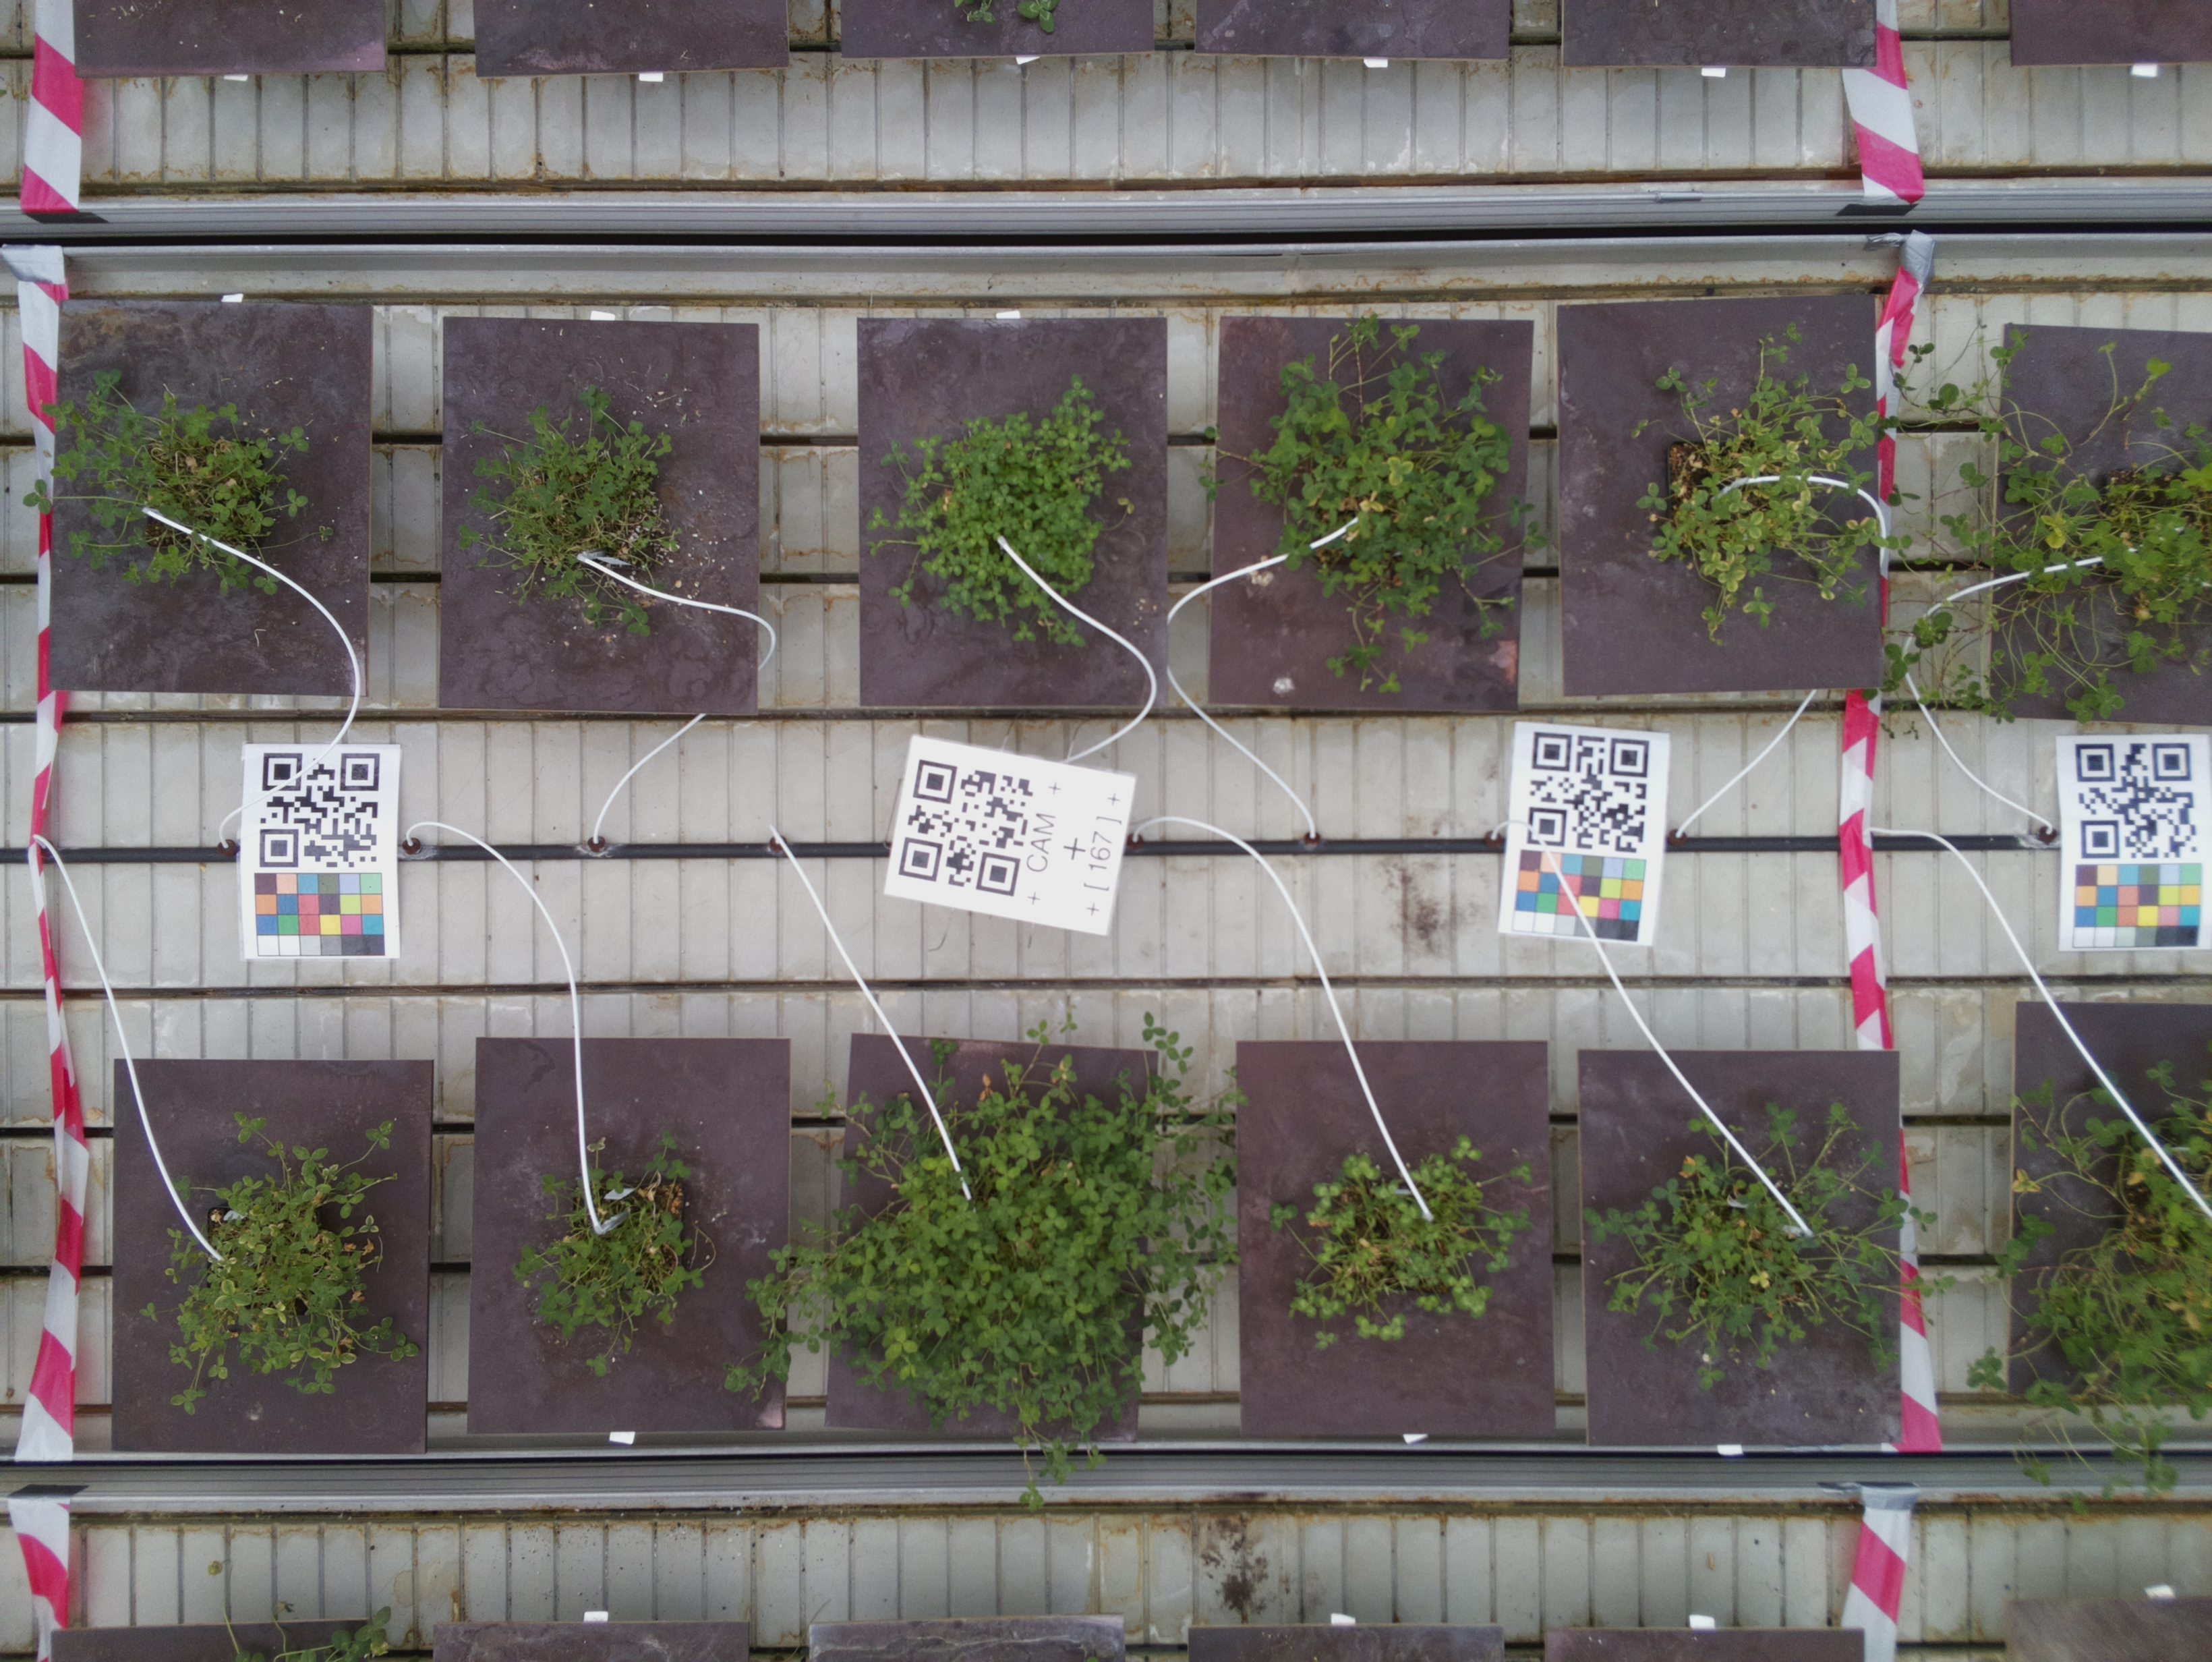POT: (436, 309, 773, 726), (1556, 304, 1891, 698), (1578, 1051, 1908, 1446), (49, 299, 374, 698), (1238, 1039, 1563, 1439), (115, 1060, 436, 1453), (477, 1034, 789, 1435), (857, 321, 1173, 709), (1219, 316, 1526, 714), (848, 1034, 1144, 1446)
QRCODE: (883, 733, 1138, 941)
QRCOLOR: (1500, 721, 1667, 950), (244, 745, 395, 955)
